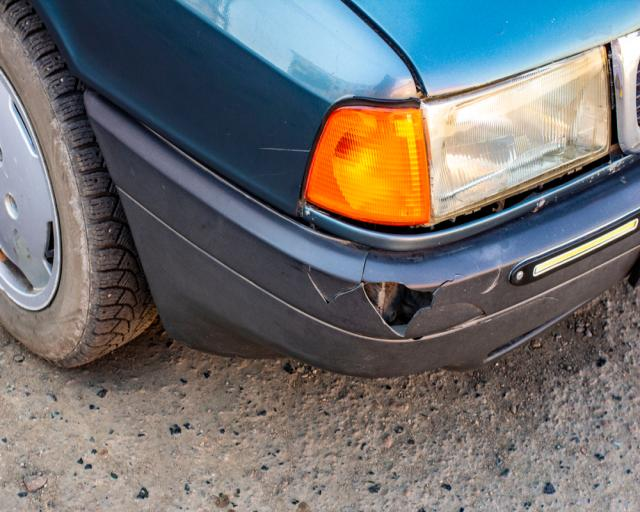crack: (305, 252, 468, 340)
